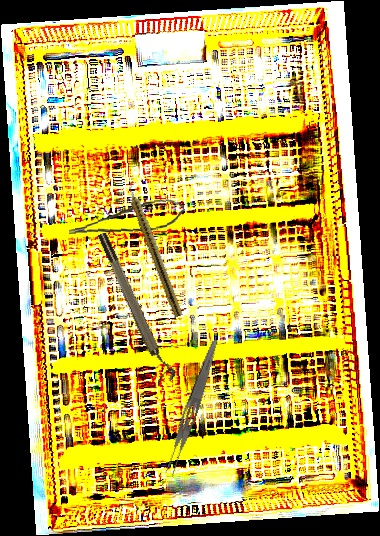Dressing Forceps: (161, 336, 222, 479)
Fixation Ring: (95, 228, 178, 386)
Handpiece: (123, 180, 186, 318)
Micro Scissor: (66, 196, 187, 239)
